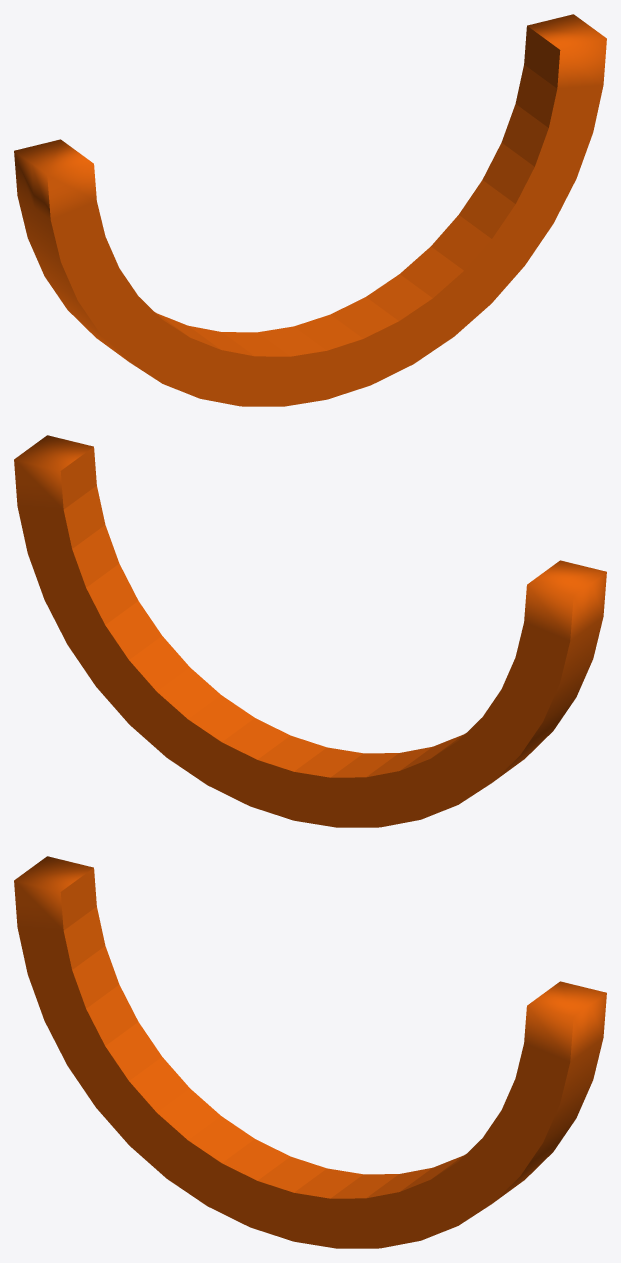
File: HalfRing.fbx
3 views of the same model, one above another, from view 1: azimuth 30°, elevation 25°; view 2: azimuth 150°, elevation 25°; view 3: azimuth 330°, elevation 25° (orthographic).
Visible parts, largest first — view 1: pCylinder1; view 2: pCylinder1; view 3: pCylinder1.
Part boxes in pixels (bbox=[...]): pCylinder1: bbox=[14, 14, 606, 406]; pCylinder1: bbox=[14, 435, 606, 827]; pCylinder1: bbox=[14, 856, 606, 1248].
Bounding box in the file's own units: 2.4 × 1.2 × 0.2473.
